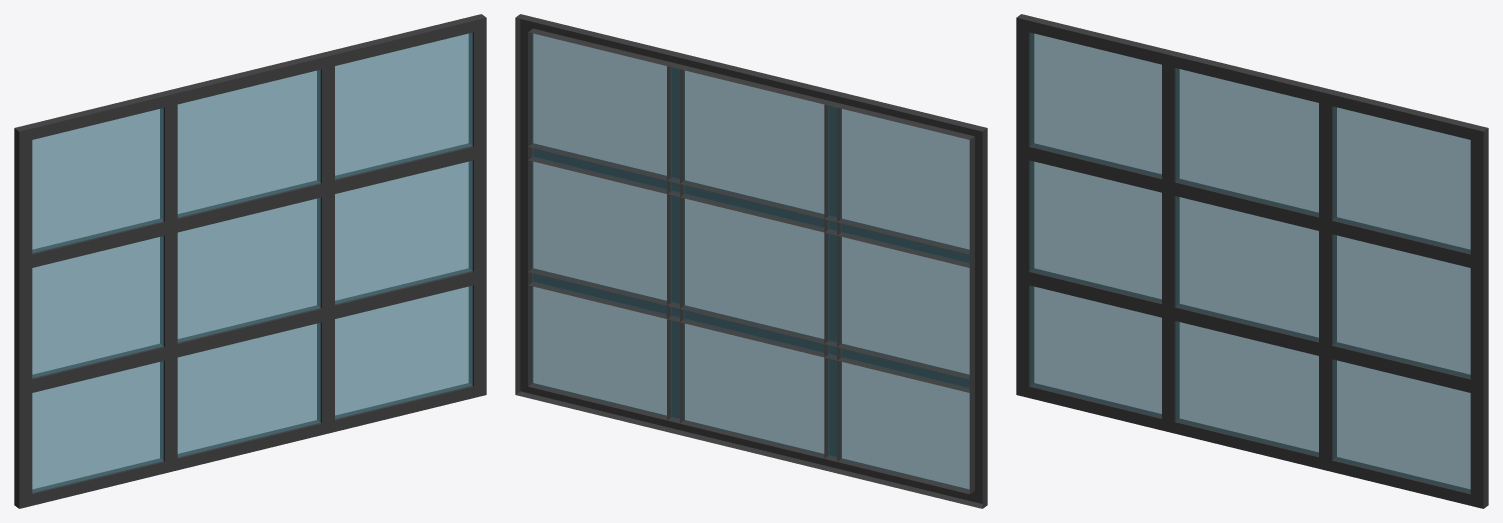
Rendered from Window.fbx.
3 views of the same model, side by side, from view 1: azimuth 30°, elevation 25°; view 2: azimuth 150°, elevation 25°; view 3: azimuth 330°, elevation 25° (orthographic).
Visible parts, largest first — view 1: window; view 2: window; view 3: window.
Part boxes in pixels (x1=…): window: x1=14, y1=14, x2=486, y2=508; window: x1=515, y1=14, x2=987, y2=508; window: x1=1016, y1=14, x2=1488, y2=508.
Bounding box in the file's own units: 304 × 235 × 5.71.
